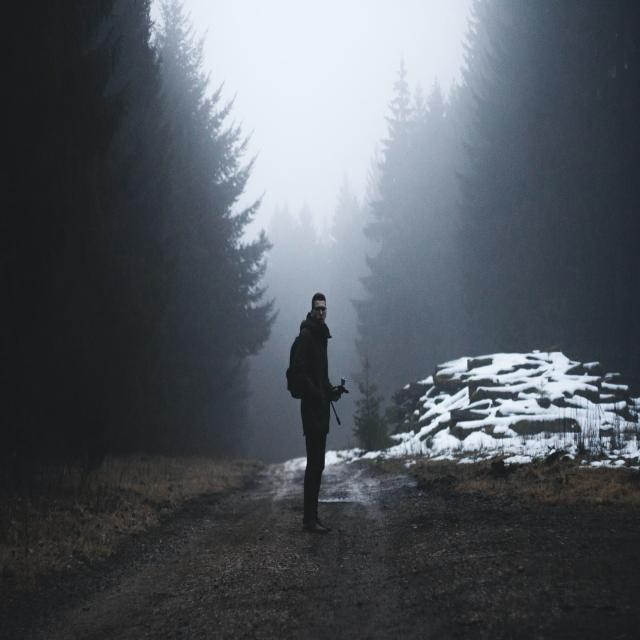adult: (289, 291, 350, 536)
